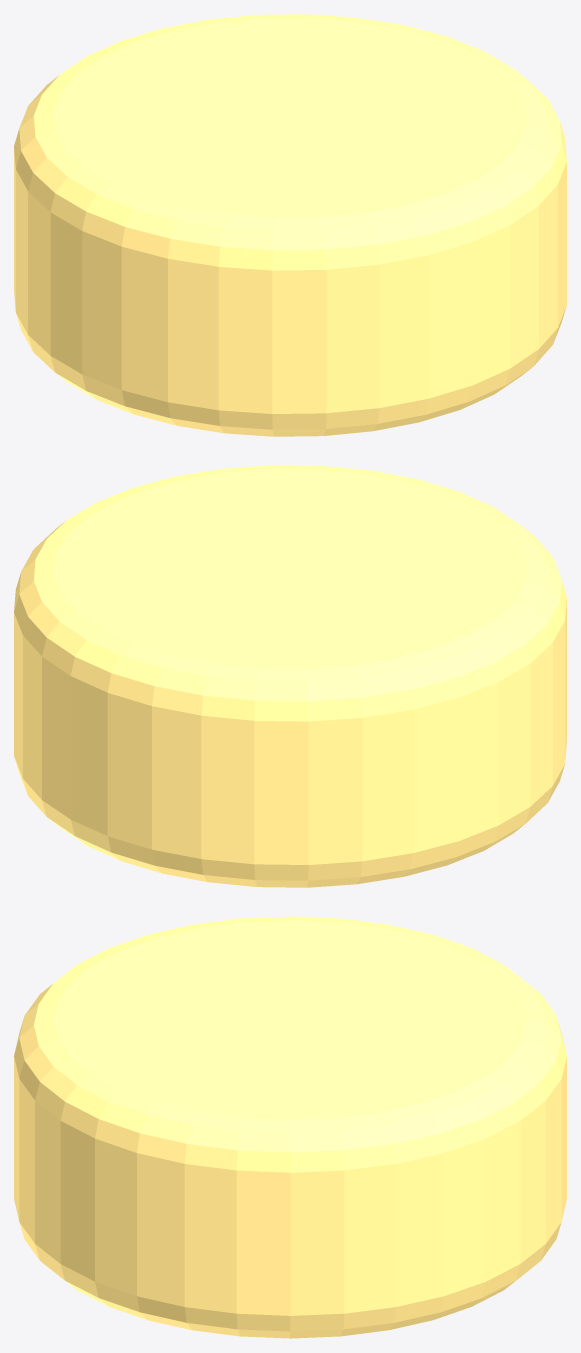
Rendered from SM_UI_SliderKnob.fbx.
The picture shows the model from 3 angles, top to bottom: view 1: azimuth 30°, elevation 25°; view 2: azimuth 150°, elevation 25°; view 3: azimuth 270°, elevation 25°; orthographic projection.
Visible parts, largest first — view 1: SM_UI_SliderKnob; view 2: SM_UI_SliderKnob; view 3: SM_UI_SliderKnob.
Part boxes in pixels (x1,y1,x2,y2): SM_UI_SliderKnob: (14, 14, 566, 436); SM_UI_SliderKnob: (14, 465, 566, 887); SM_UI_SliderKnob: (14, 916, 566, 1338).
Size of the model in its own units: 0.56 by 0.24 by 0.56.
